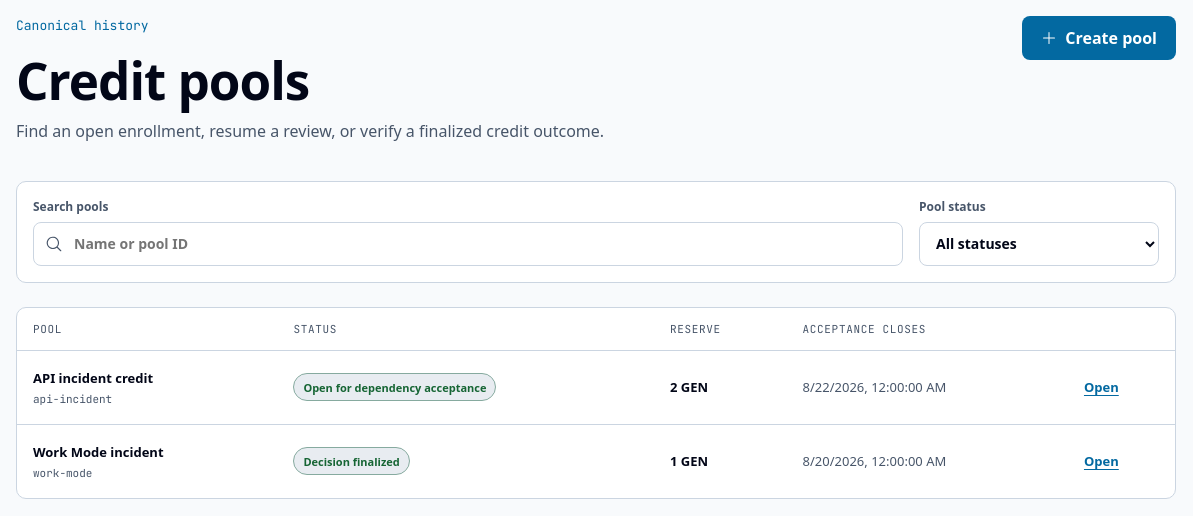
Test: pool product pages › searches and filters adapter-backed pool history
Expected: the text "API incident credit" is shown, [33,369,153,387]
Expected: the text "Work Mode incident" is shown, [33,443,164,461]
Type "work mode" into the search field labelled "Search pools" at [468, 244], box [33,222,903,266]
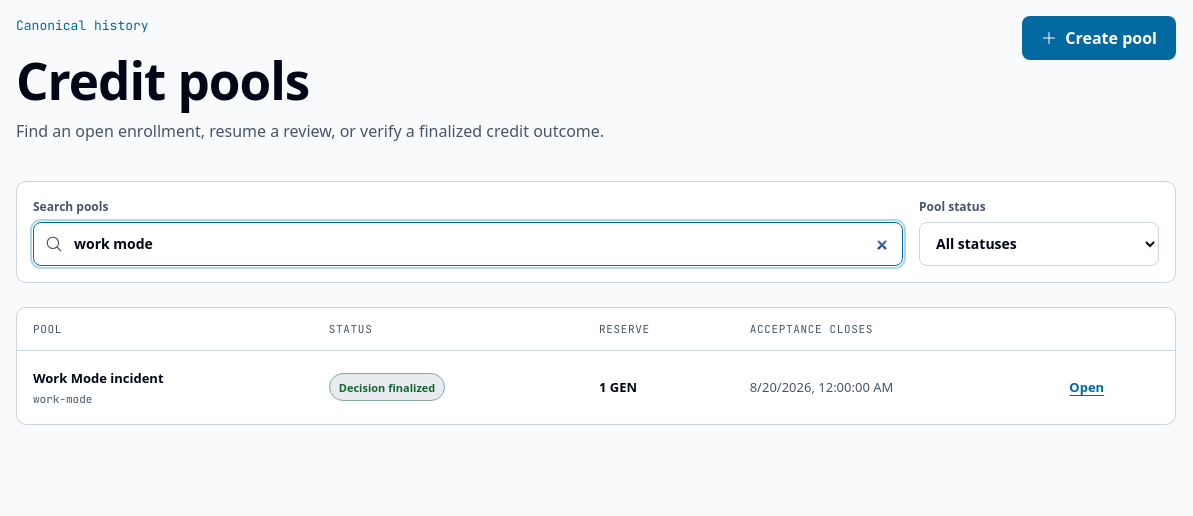
Expected: the text "Work Mode incident" is shown, [33,369,164,387]
Result: the link "API incident credit" is gone
